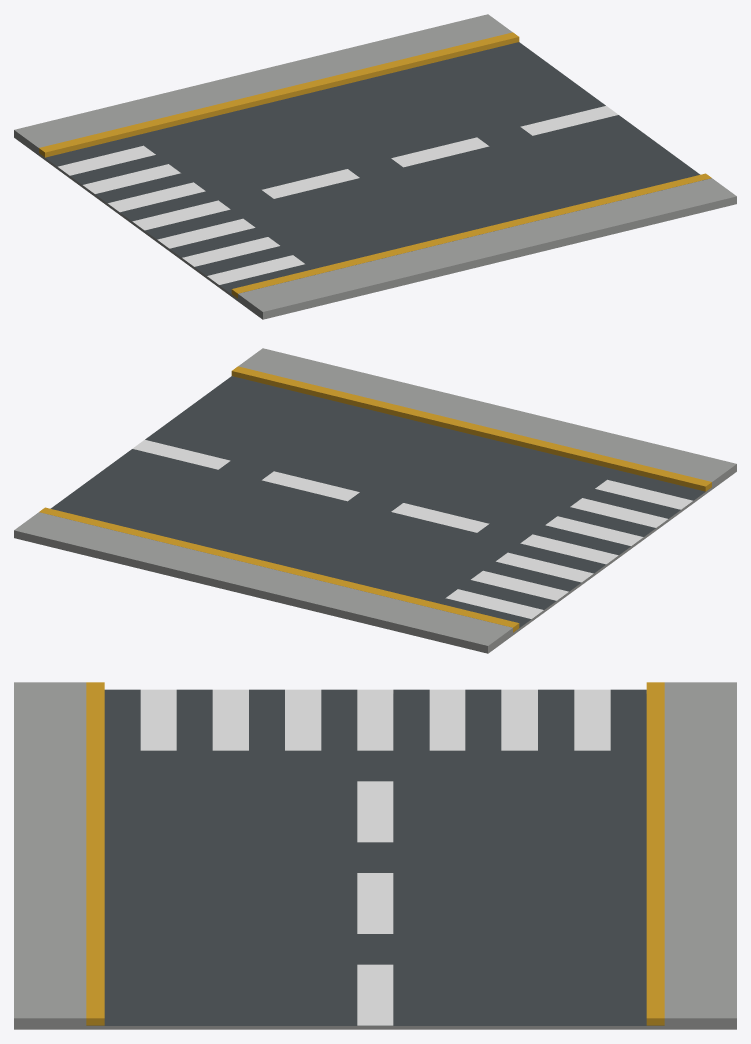
Rendered from Road_1.glb.
3 renders of one model, top to bottom at view 1: azimuth 30°, elevation 25°; view 2: azimuth 150°, elevation 25°; view 3: azimuth 270°, elevation 25°, orthographic. The views are drawn at different scales.
Parts seen in each view (by area): view 1: Road 1; view 2: Road 1; view 3: Road 1.
Boxes of the visible parts, bbox=[...] form: Road 1: bbox=[14, 14, 736, 319]; Road 1: bbox=[14, 348, 736, 653]; Road 1: bbox=[14, 682, 736, 1029].
Bounding box in the file's own units: 9.74 × 0.1541 × 8.86.
